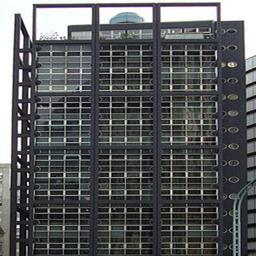building: (12, 0, 249, 256)
